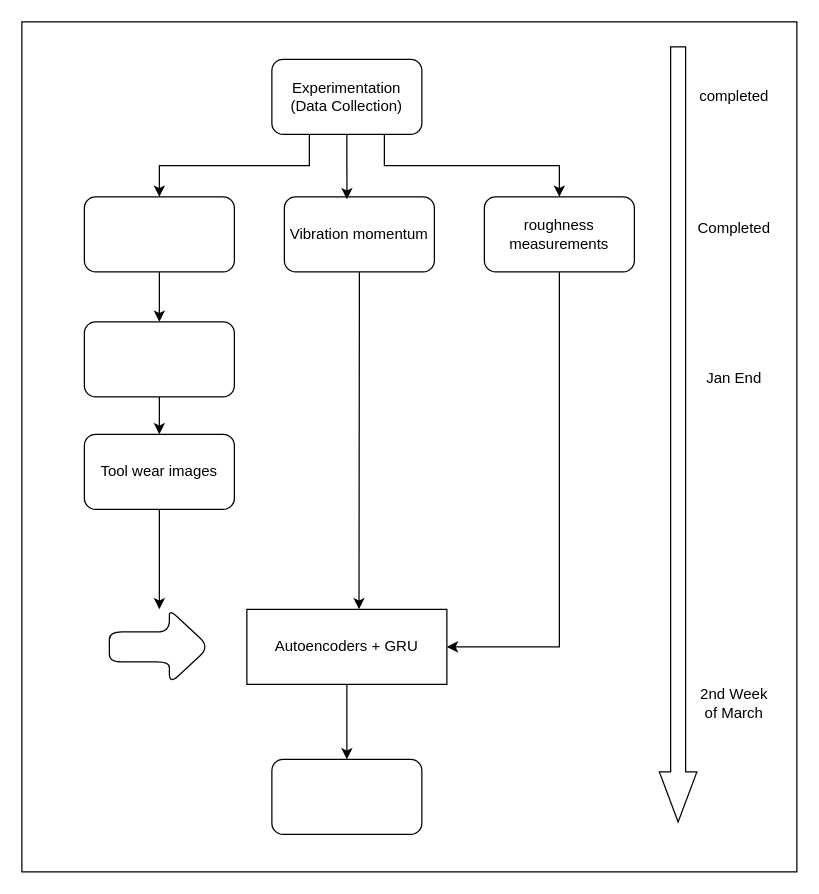
Image size: 819x894. Some labels were removed from this diagram. Here are the shapes that lost their labels. From the top down, the centre of each, then its label:
At (158,234): "Tool Images".
At (158,359): "SAM".
At (346,796): "Outcome".
